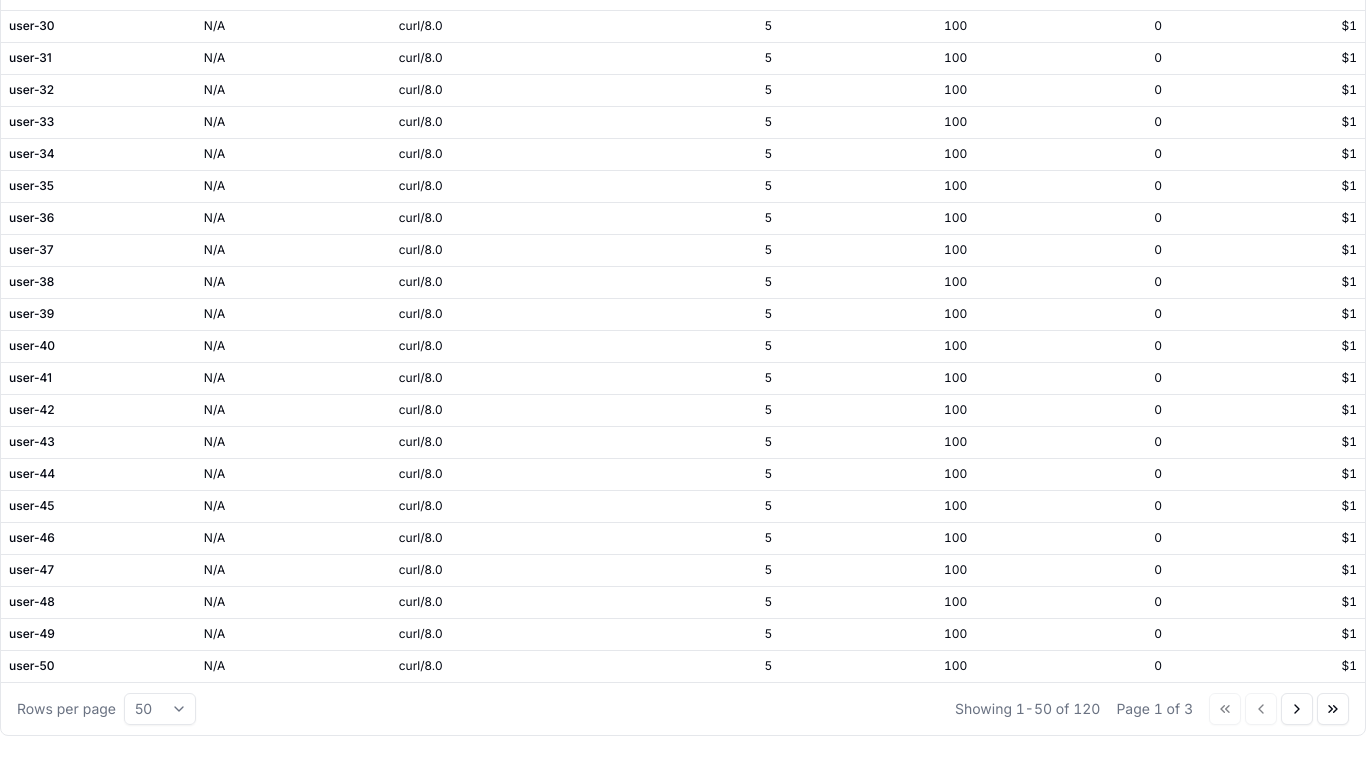
PerUserUsage › server pagination › refetches the next page when Next is clicked
(page scrolled)
Click the button with test id "pagination-next": (1297, 709) [1281,693,1313,725]
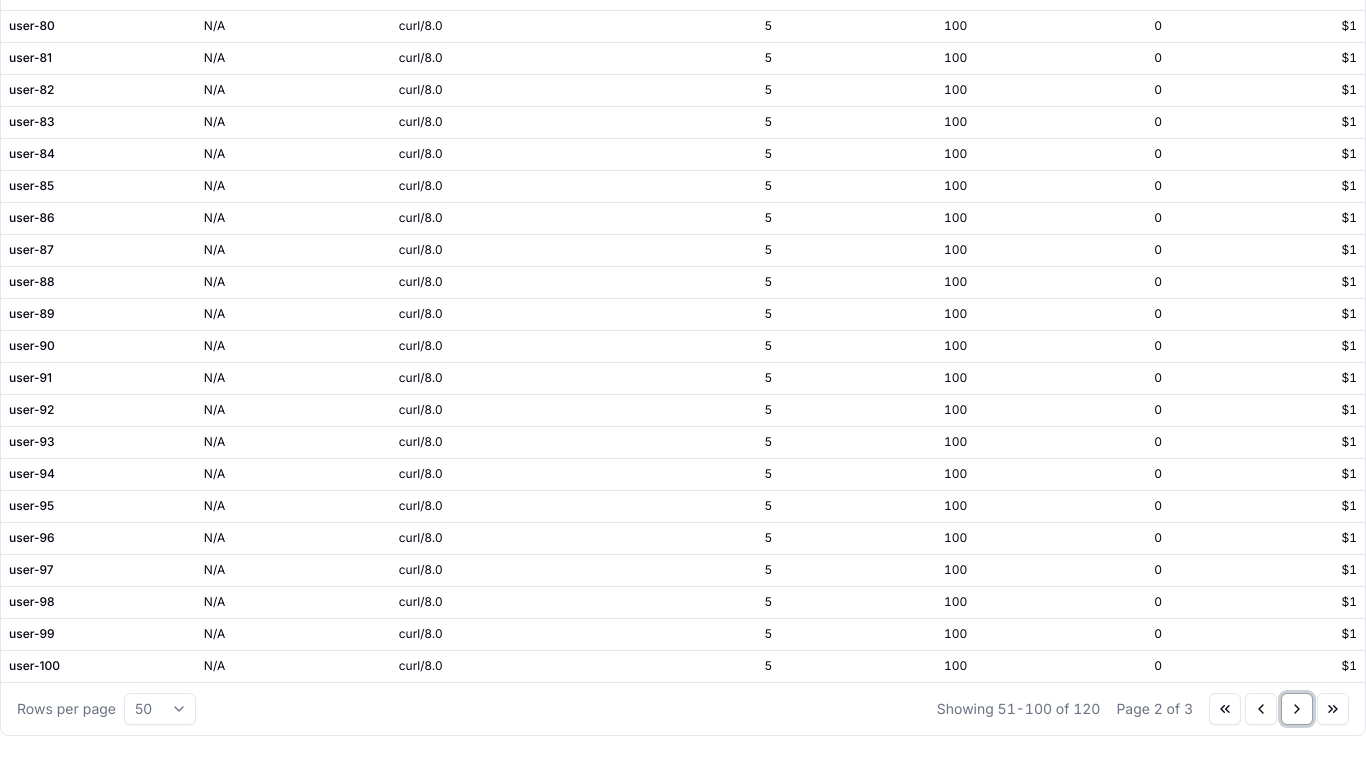
Expected: the button with test id "pagination-prev" is enabled, [1245,693,1277,725]
Now the text with test id "pagination-range" reads "Showing 51-100 of 120", box [937,700,1100,717]
